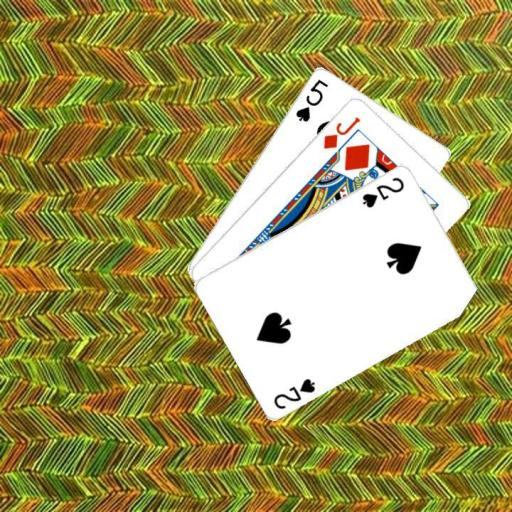2S: (359, 174, 406, 209), (270, 375, 317, 410)
5S: (293, 75, 330, 123)
JD: (320, 113, 362, 150)
